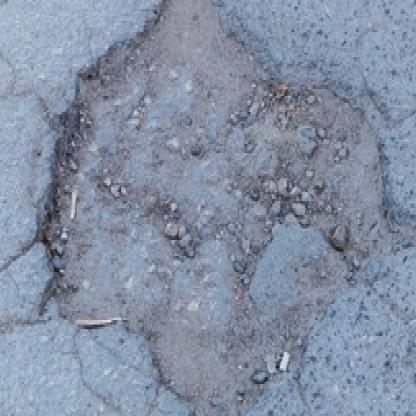pothole: (38, 0, 399, 416)
